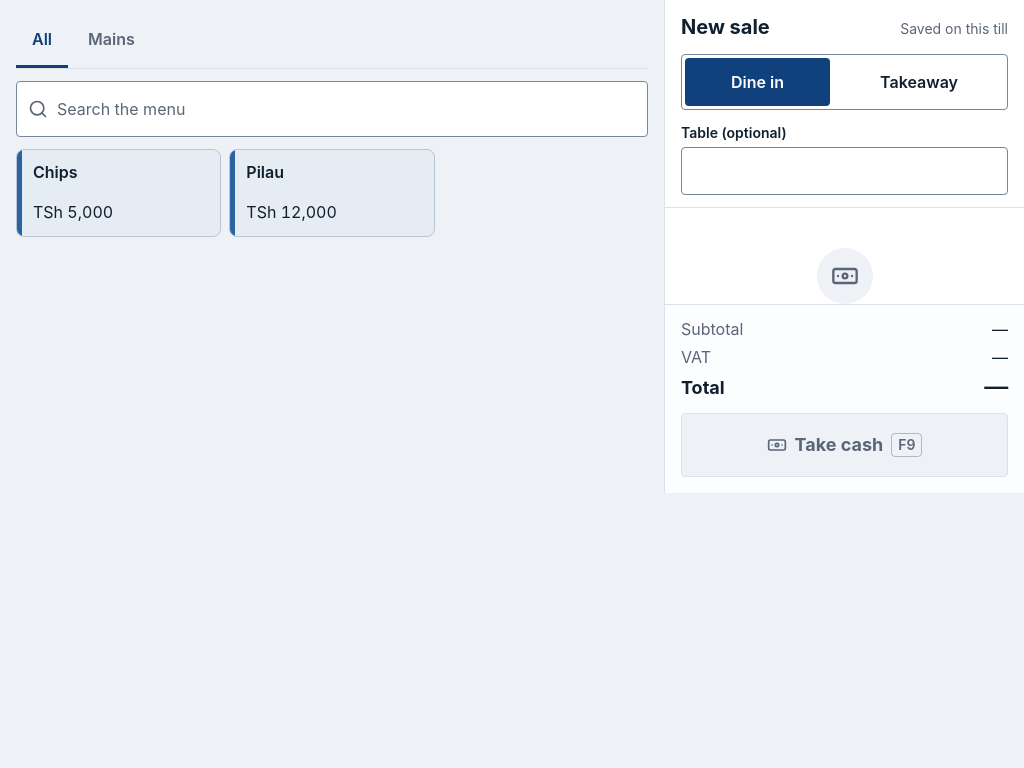
Test: the offline register › offline, the quick amounts come from the outlet's notes kept on this till
Click the button with test id "menu-Chips". click: [119, 193]
box: [16, 149, 221, 237]
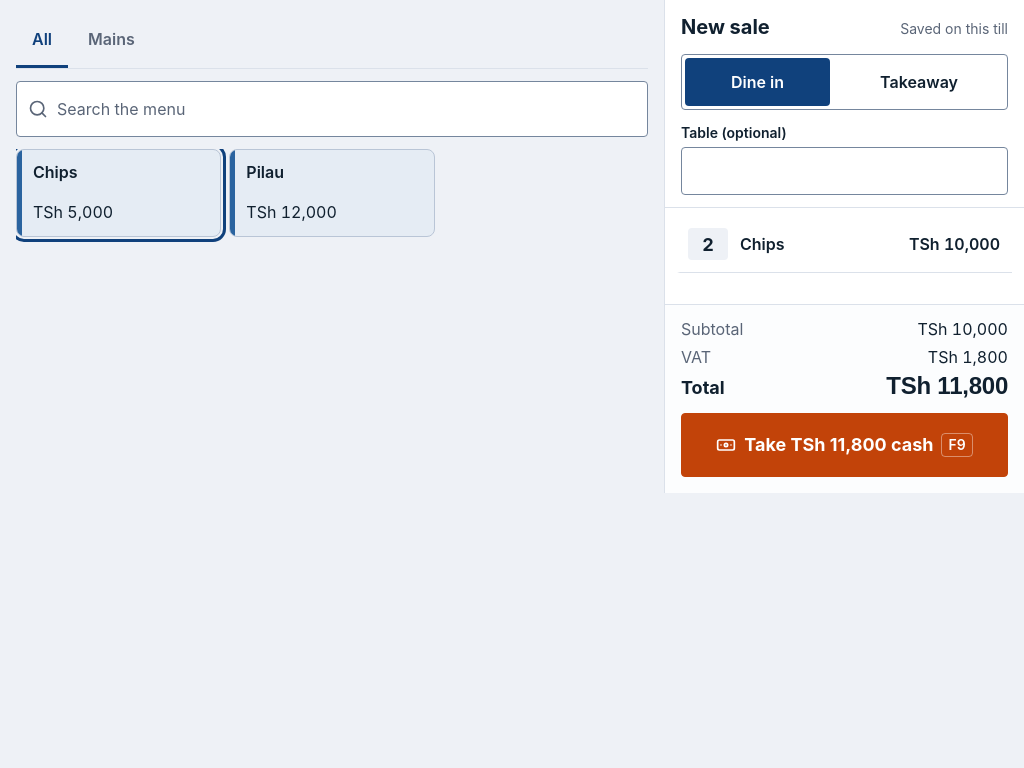
Expected: the list item with test id "cart-Chips" is shown, [677, 216, 1012, 273]
Click the button with test id "offline-pay". click: [844, 445]
box: [681, 413, 1008, 477]
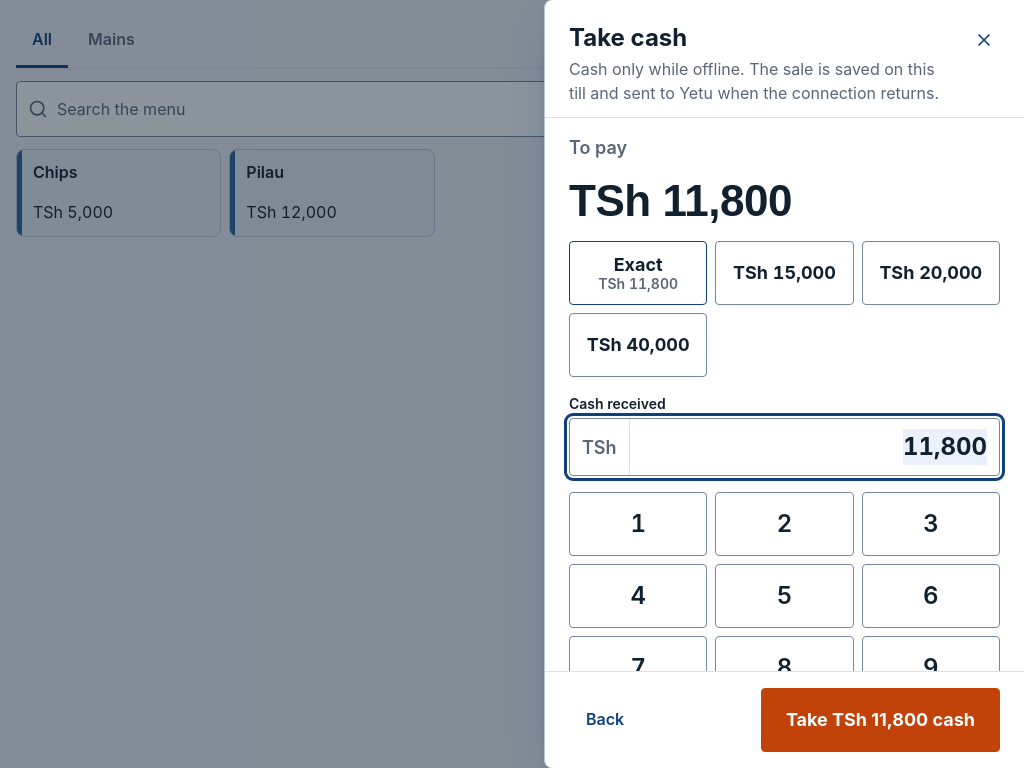
Expected: the buttons read "ExactTSh 11,800", "TSh 15,000", "TSh 20,000", "TSh 40,000", in this order, [569, 241, 707, 305]; [715, 241, 854, 305]; [862, 241, 1000, 305]; [569, 313, 707, 377]
